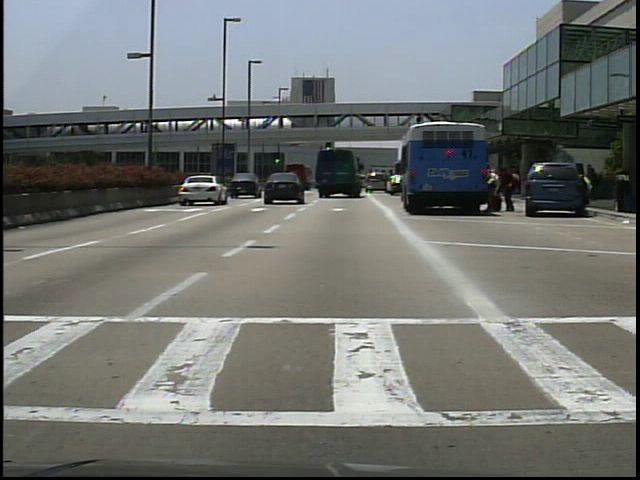person: (484, 162, 501, 215), (501, 162, 519, 212), (582, 168, 596, 208)
